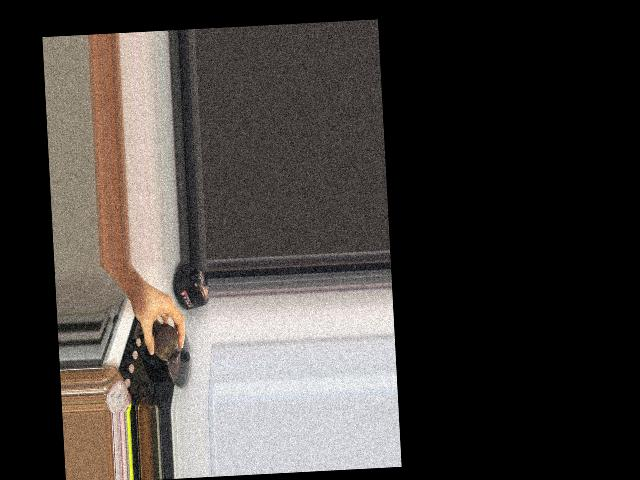beet: (152, 320, 179, 364)
